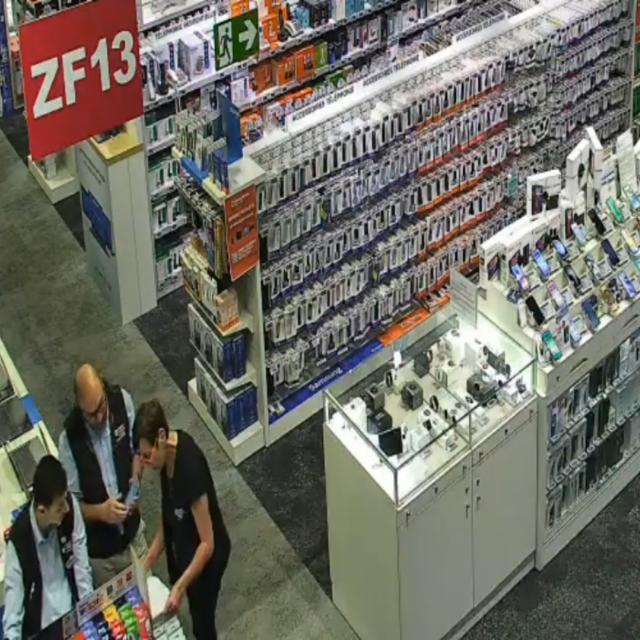hands: (102, 497, 127, 524), (164, 583, 183, 614), (142, 553, 156, 573)
person: (135, 400, 230, 639), (59, 365, 145, 587), (3, 456, 92, 639)
